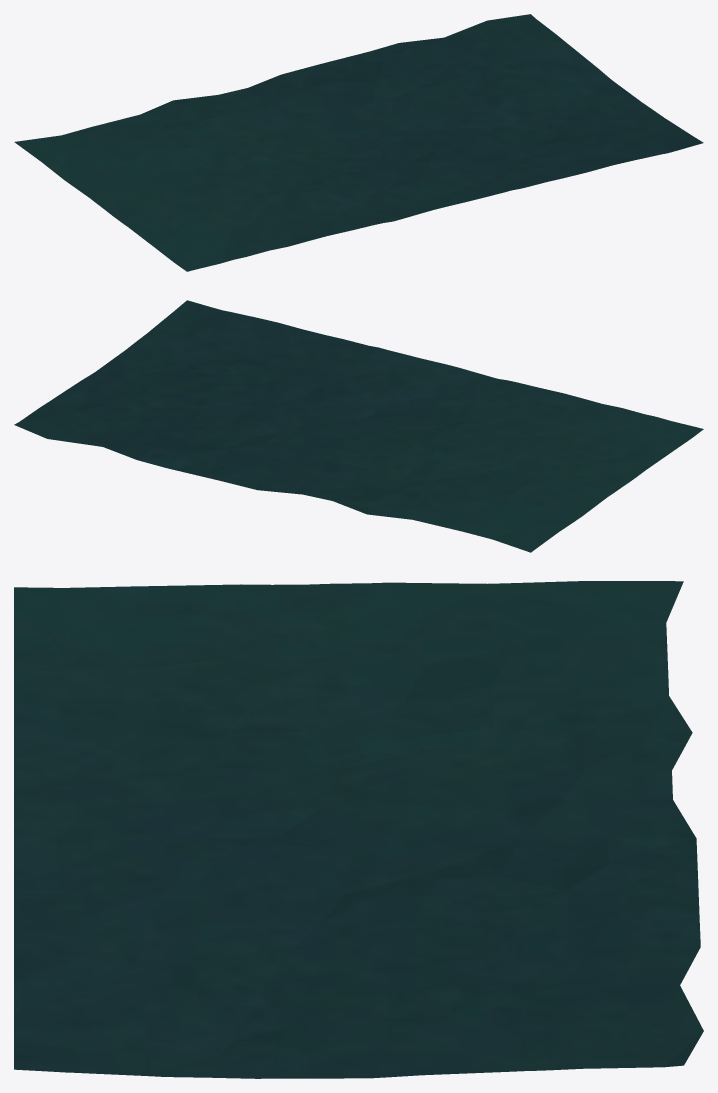
3 views of the same model, one above another, from view 1: azimuth 30°, elevation 25°; view 2: azimuth 150°, elevation 25°; view 3: azimuth 270°, elevation 25° (orthographic). The views are drawn at different scales.
Size of the model in its own units: 52.22 by 0.766 by 31.22.
1 material, 1 textured.
